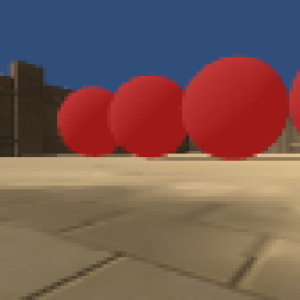badGoal: (180, 49, 287, 160), (111, 65, 188, 163), (53, 79, 123, 164), (282, 59, 300, 137)
